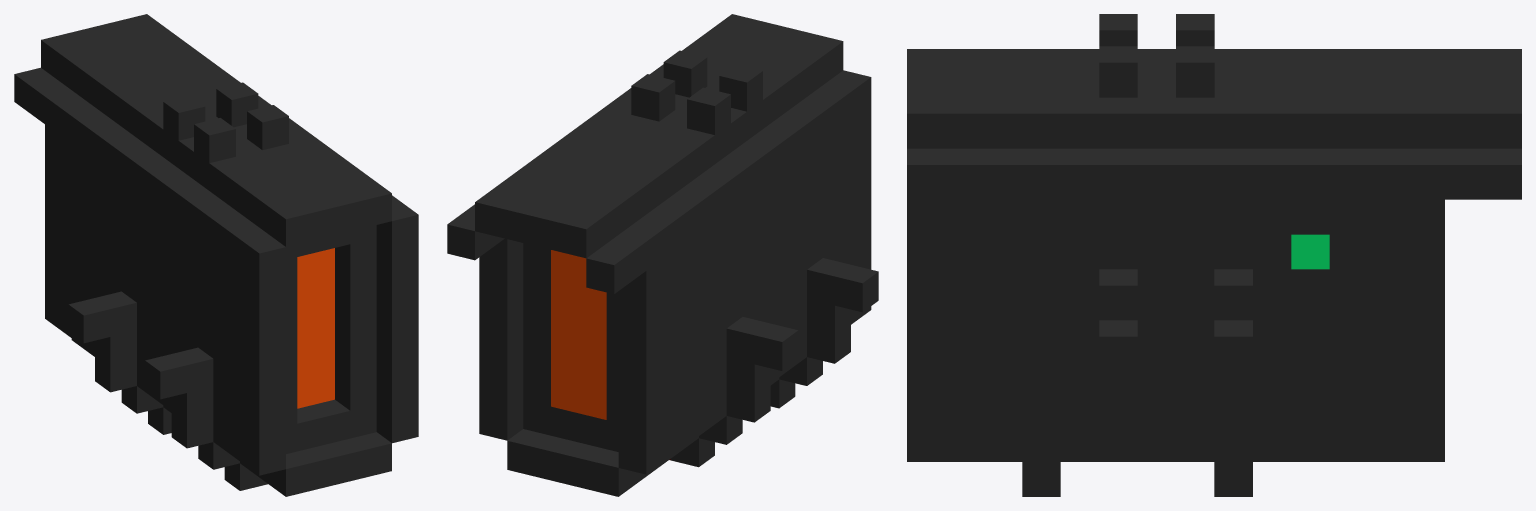
Rendered from Extra-10-RedFighter_Thruster_R.obj.
The picture shows the model from 3 angles, left to right: view 1: azimuth 30°, elevation 25°; view 2: azimuth 150°, elevation 25°; view 3: azimuth 270°, elevation 25°; orthographic projection. The views are drawn at different scales.
Visible parts, largest first — view 1: RedFighter_Thruster_R; view 2: RedFighter_Thruster_R; view 3: RedFighter_Thruster_R.
Part boxes in pixels (x1,y1,x2,y2): RedFighter_Thruster_R: (14, 14, 418, 496); RedFighter_Thruster_R: (447, 14, 878, 496); RedFighter_Thruster_R: (907, 14, 1521, 496).
Size of the model in its own units: 1 by 1.2 by 1.6.
1 material, 1 textured.
